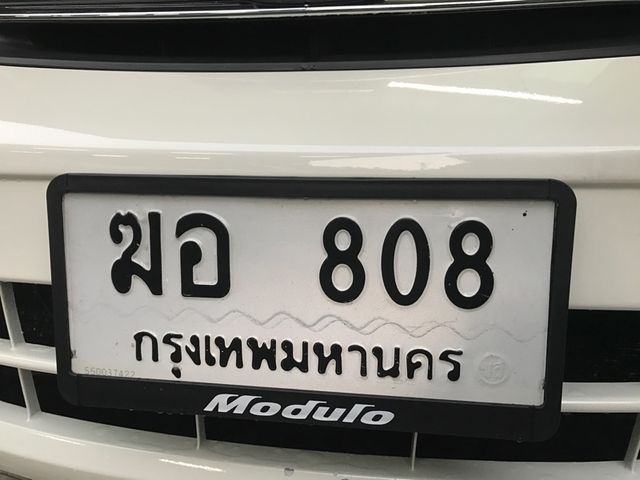Bangkok: (124, 309, 470, 393)
